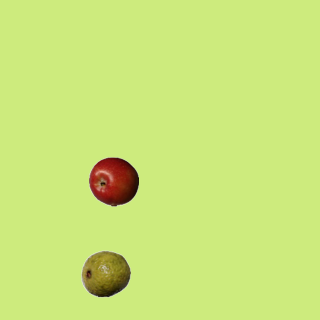Apple Braeburn: (88, 156, 138, 206)
Guava: (80, 248, 130, 298)
